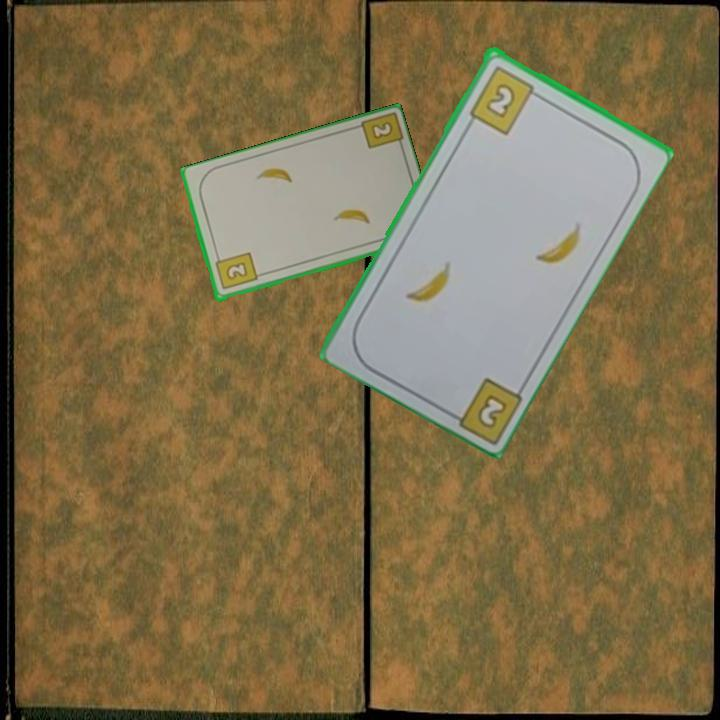2b: (465, 61, 544, 137), (211, 249, 260, 293), (473, 390, 510, 431), (367, 118, 396, 142)
